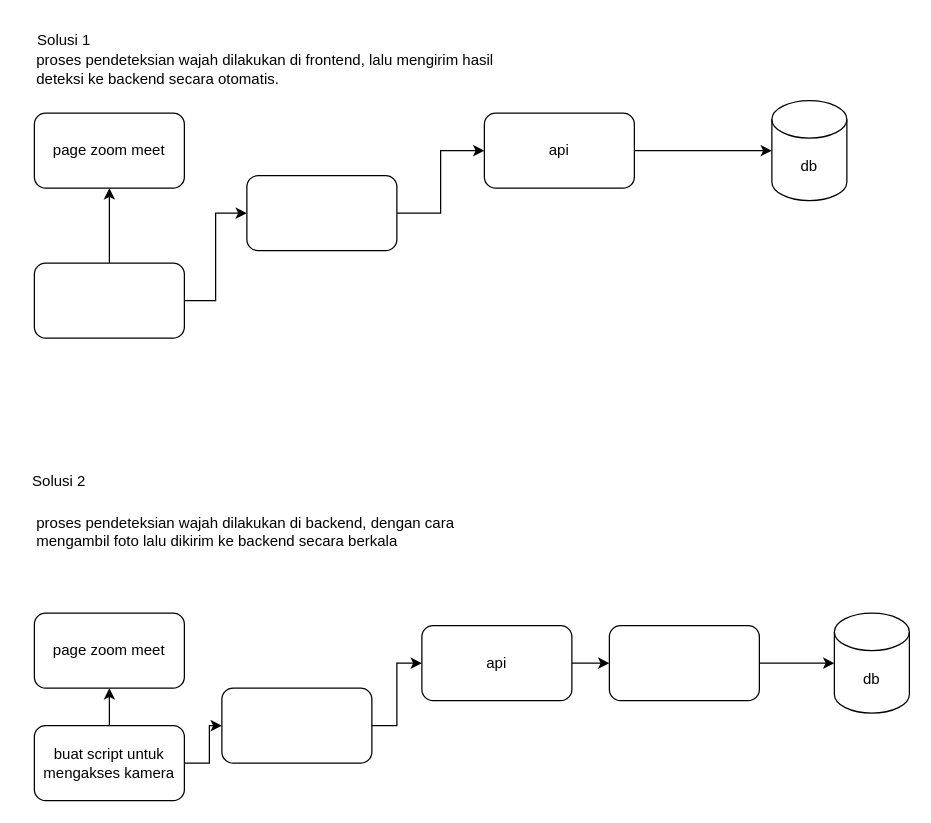
The diagram is 931 pixels wide and 823 high, and some of its shapes have lost their labels. The centre of each missing label's shape, as x and y in pixels:
"ambil foto setiap 1s" goes at (x=296, y=725).
"deteksi semua wajah yg ada di layar setiap 1s" goes at (x=321, y=212).
"include script deteksi wajah" goes at (x=108, y=300).
"proses deteksi gambar" goes at (x=683, y=662).
